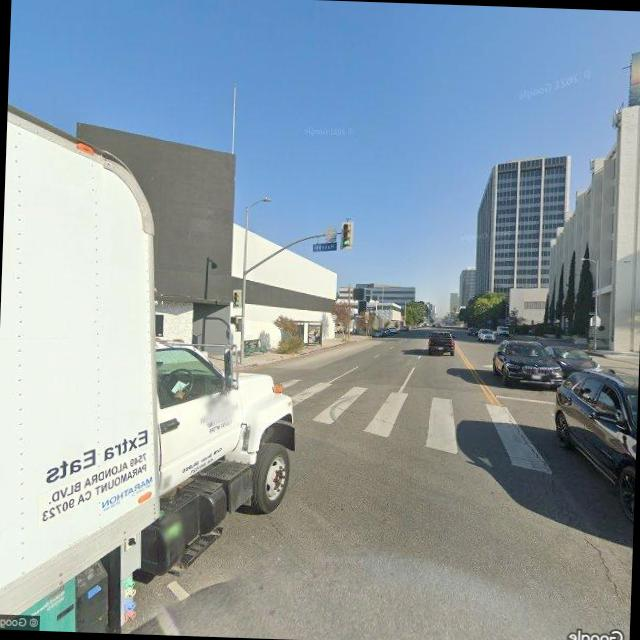pothole: (572, 520, 630, 602)
